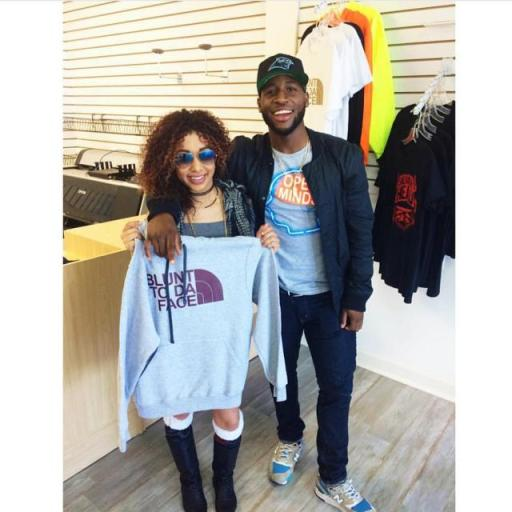The North Face: (143, 265, 233, 314)
